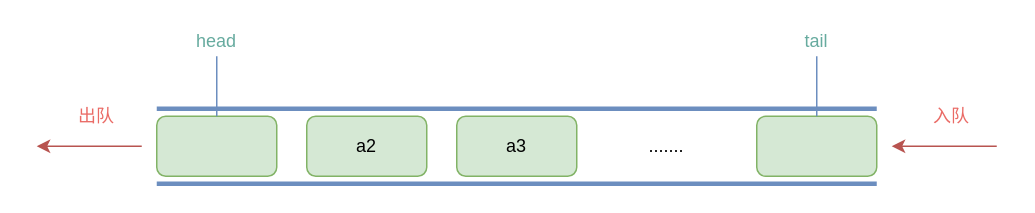
This 1035x213 diagram has some shape labels left out. Here are the shapes that lost their labels. From the top down, the centre of each, then its label:
the point at 216,145: a1
the point at 816,145: an
